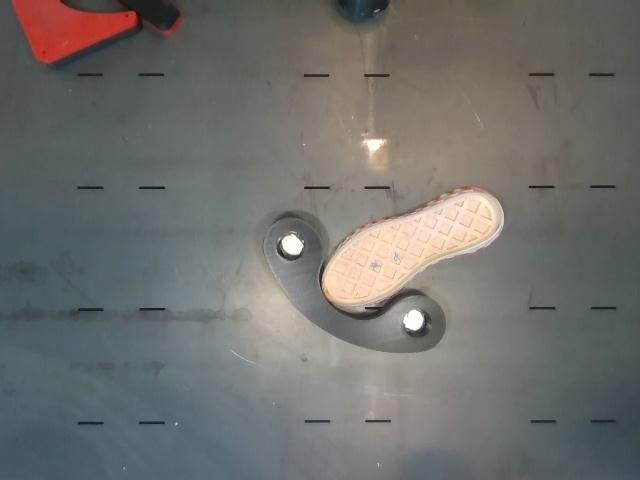shoes: (322, 192, 502, 305)
